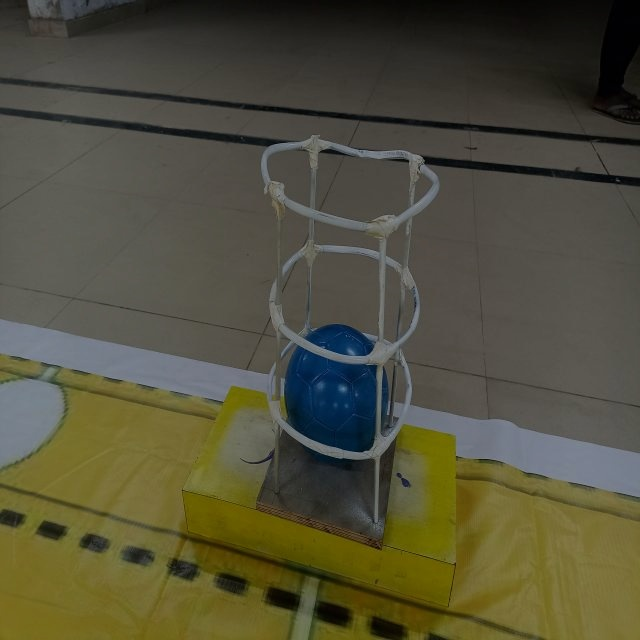blue_ball: (285, 322, 389, 456)
silo: (255, 133, 439, 539)
